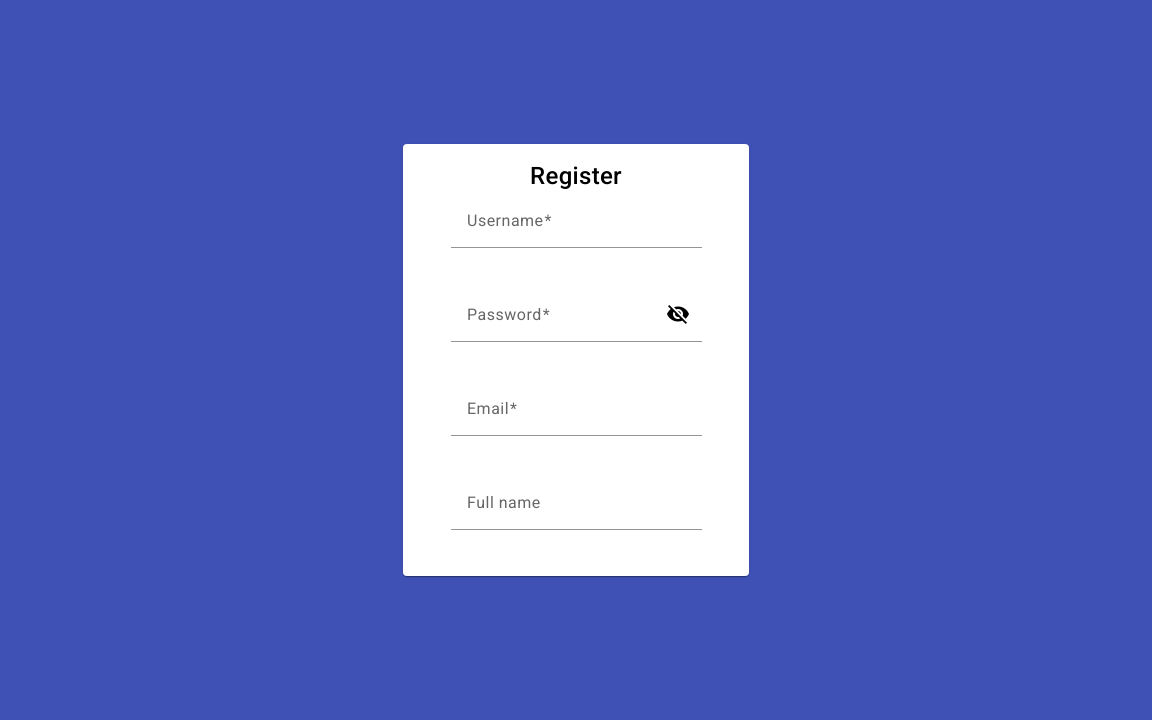
it: Register Page E2E Tests › should show strong password error if password don't match the requirements
Type "password" into the password field labelled "Password" at (559, 322), box [467,310,650,334]
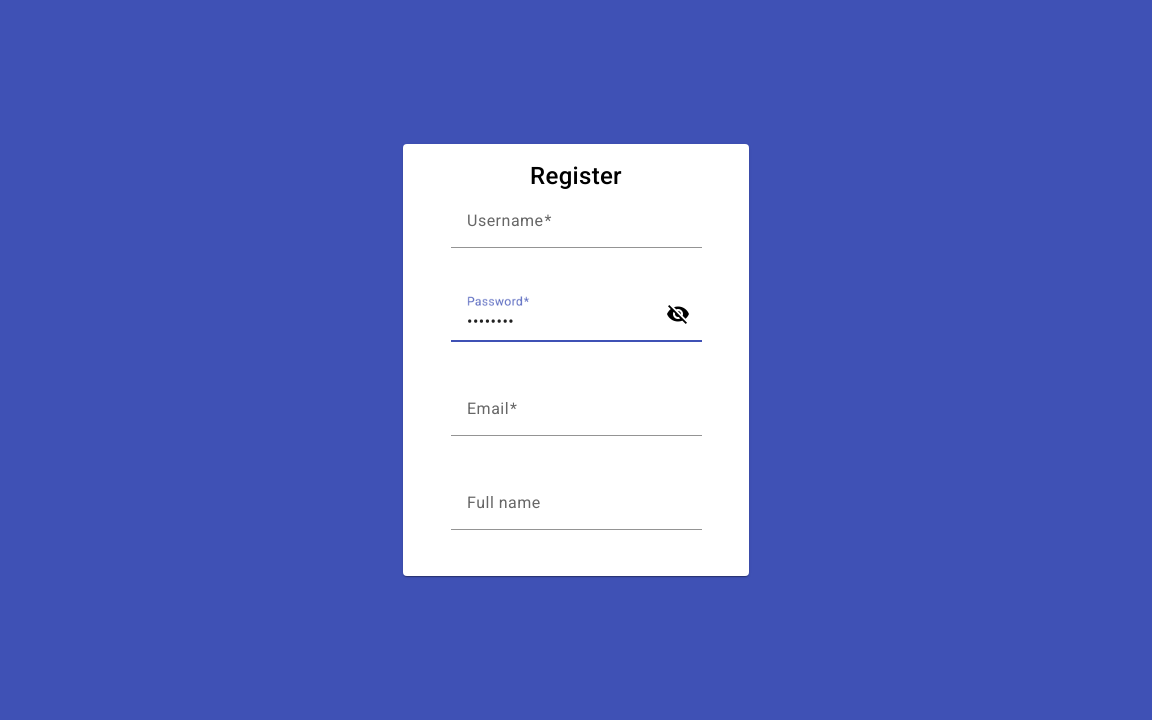
Click the element showing "Register Username Password Email Full name Register" at (0, 0), box [0,0,1151,719]
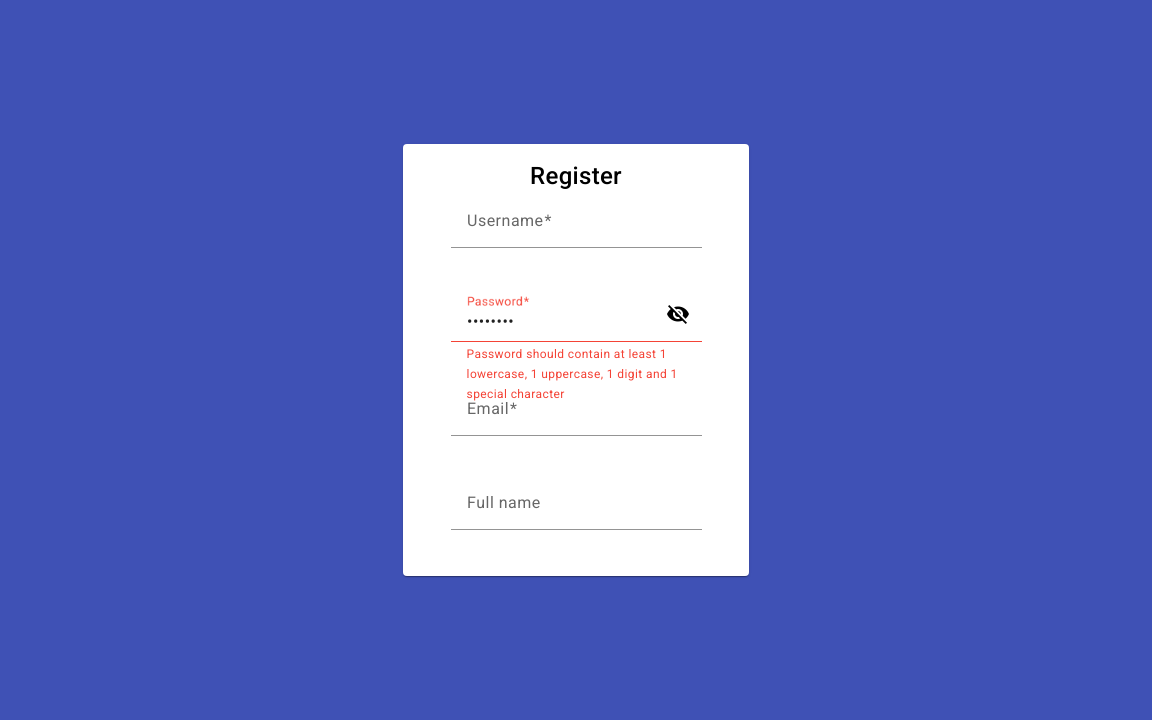
Check: the text "Password should contain at least 1 lowercase, 1 uppercase, 1 digit and 1 special character" is shown, box [467,347,678,401]
